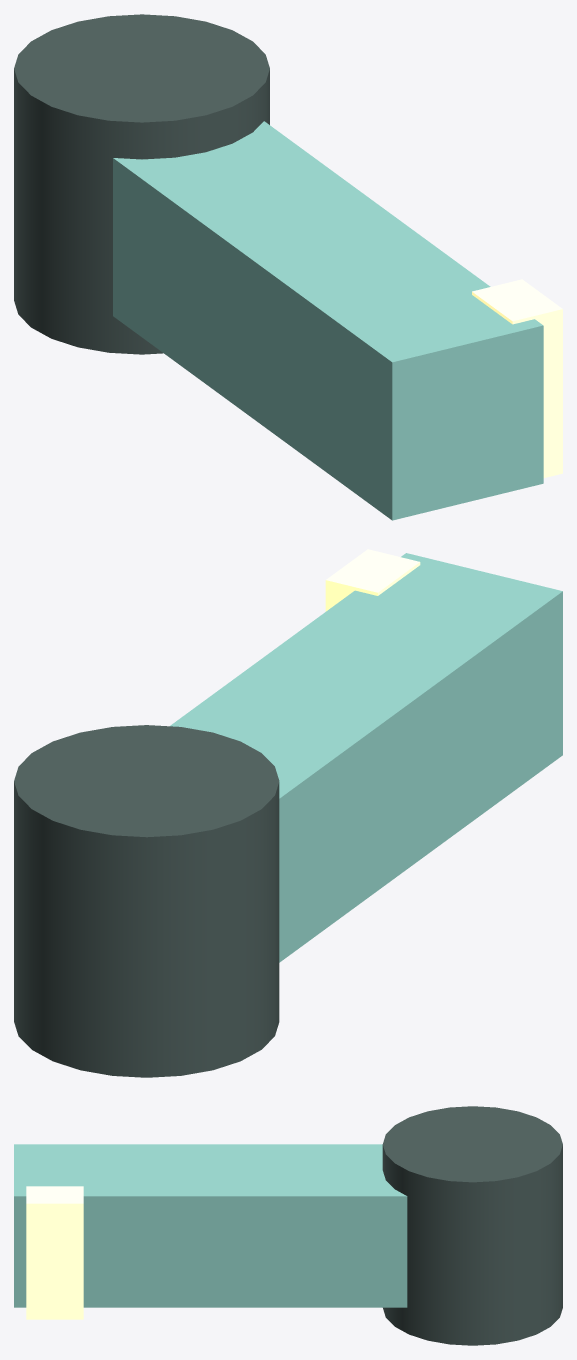
Rendered from upper_arm.glb.
The picture shows the model from 3 angles, top to bottom: view 1: azimuth 30°, elevation 25°; view 2: azimuth 150°, elevation 25°; view 3: azimuth 270°, elevation 25°; orthographic projection. The views are drawn at different scales.
Visible parts, largest first — view 1: beam, shoulder_axis, elbow_light; view 2: shoulder_axis, beam, elbow_light; view 3: beam, shoulder_axis, elbow_light.
Part boxes in pixels (<box>): beam: <box>113,121,543,520</box>; shoulder_axis: <box>14,14,269,354</box>; elbow_light: <box>472,279,562,477</box>; shoulder_axis: <box>14,725,279,1077</box>; beam: <box>170,553,562,962</box>; elbow_light: <box>325,549,420,611</box>; beam: <box>14,1144,407,1307</box>; shoulder_axis: <box>382,1106,562,1345</box>; elbow_light: <box>26,1186,83,1319</box>.
Size of the model in its own units: 0.11 by 0.11 by 0.335.
